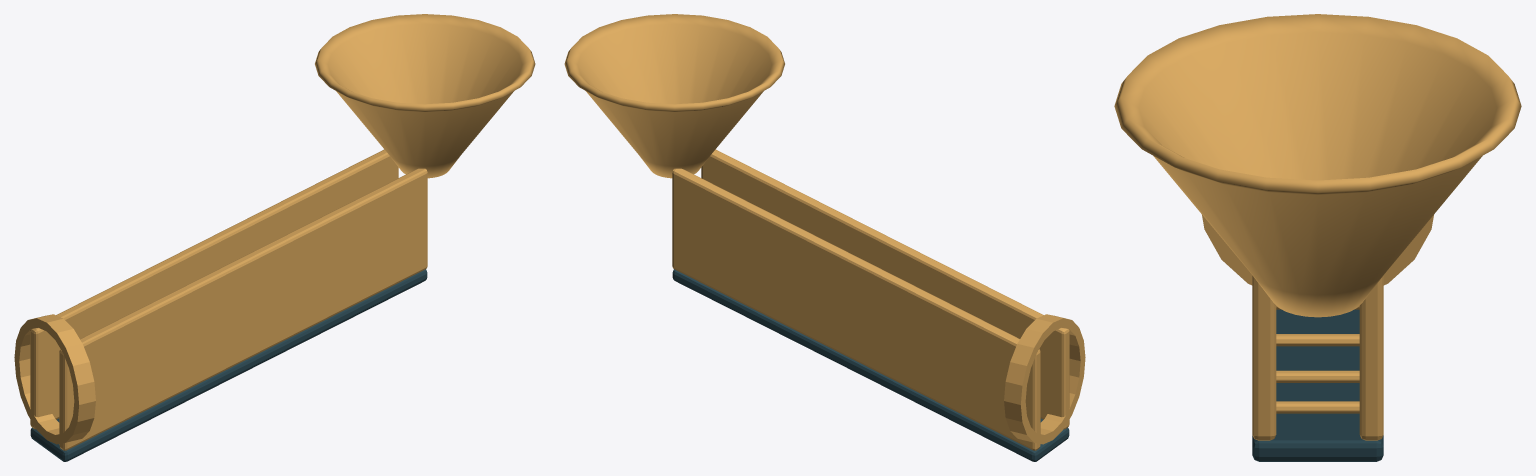
File: catapult_chute.glb
The picture shows the model from 3 angles, left to right: view 1: azimuth 30°, elevation 25°; view 2: azimuth 150°, elevation 25°; view 3: azimuth 270°, elevation 25°; orthographic projection. The views are drawn at different scales.
Visible parts, largest first — view 1: catapult_chute.001; view 2: catapult_chute.001; view 3: catapult_chute.001.
Boxes of the visible parts, box(x1,y1,x2,y2) form: catapult_chute.001: box(14, 14, 535, 461); catapult_chute.001: box(564, 14, 1085, 461); catapult_chute.001: box(1114, 14, 1521, 461).
Bounding box in the file's own units: 1.69 × 1.02 × 0.6822.
